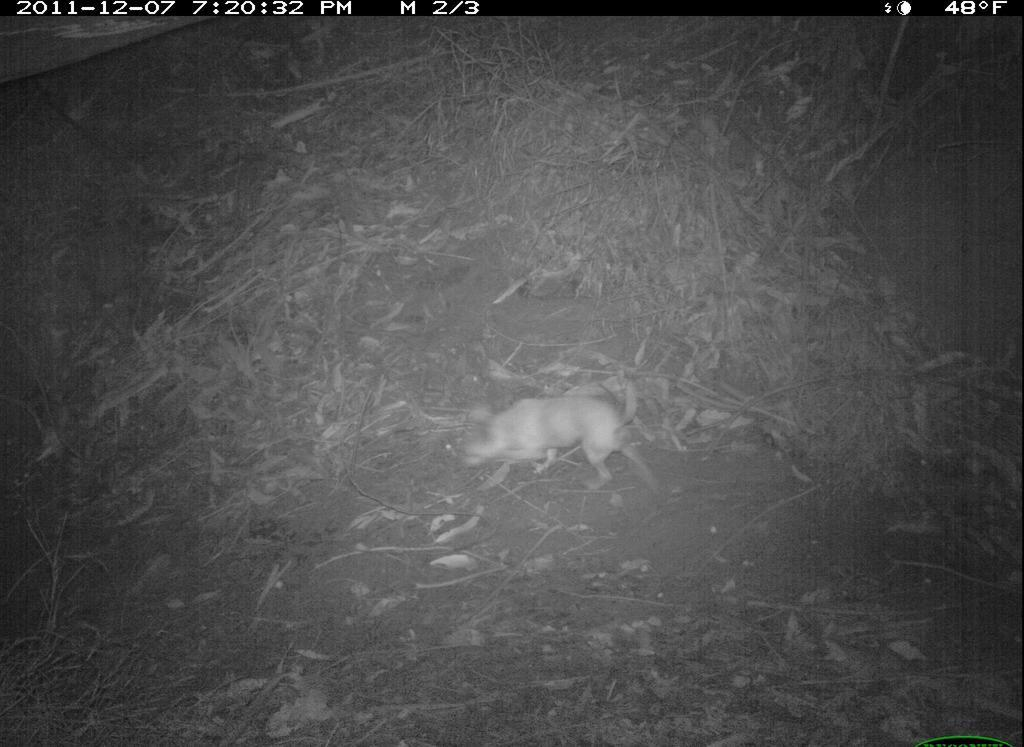dog: (411, 363, 692, 509)
